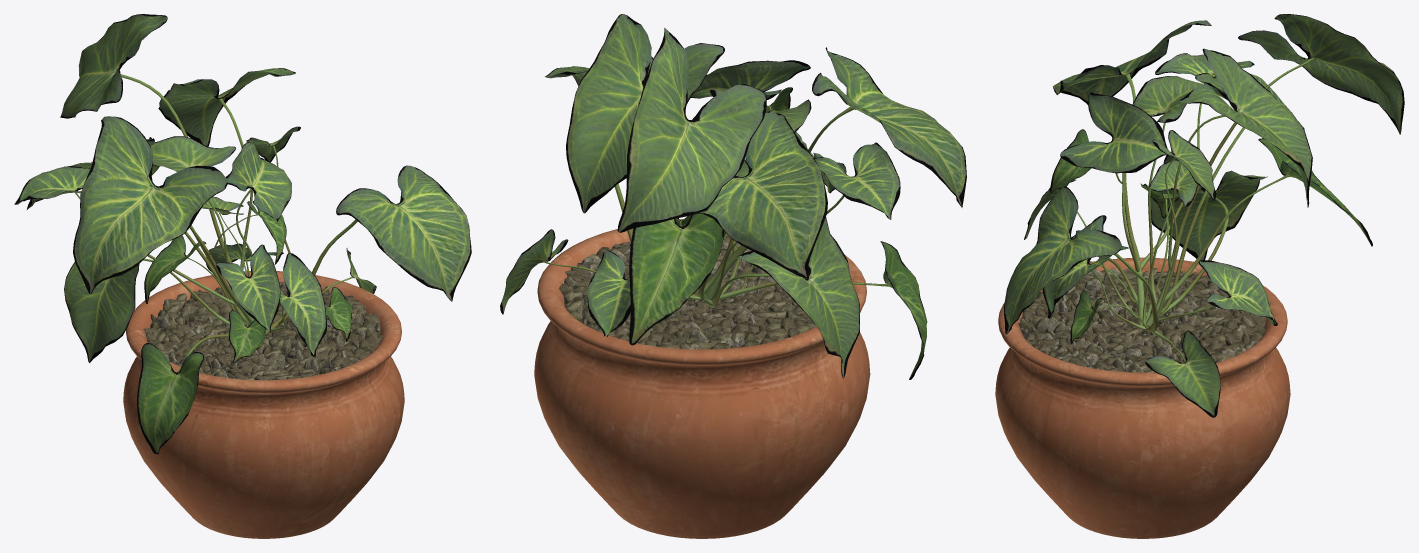
The model's file is potted_plant_02.glb.
3 views of the same model, side by side, from view 1: azimuth 30°, elevation 25°; view 2: azimuth 150°, elevation 25°; view 3: azimuth 270°, elevation 25° (orthographic). The views are drawn at different scales.
Parts seen in each view (by area): view 1: potted_plant_02_leaves, potted_plant_02_pot; view 2: potted_plant_02_leaves, potted_plant_02_pot; view 3: potted_plant_02_pot, potted_plant_02_leaves.
Boxes of the visible parts, x1=… form: potted_plant_02_leaves: x1=14, y1=14, x2=471, y2=454; potted_plant_02_pot: x1=123, y1=271, x2=404, y2=538; potted_plant_02_leaves: x1=500, y1=14, x2=966, y2=379; potted_plant_02_pot: x1=534, y1=219, x2=870, y2=538; potted_plant_02_pot: x1=995, y1=257, x2=1290, y2=538; potted_plant_02_leaves: x1=1004, y1=14, x2=1404, y2=417.
Bounding box in the file's own units: 0.7012 × 0.8412 × 0.6574.
Materials: 2 (2 with a texture image).
